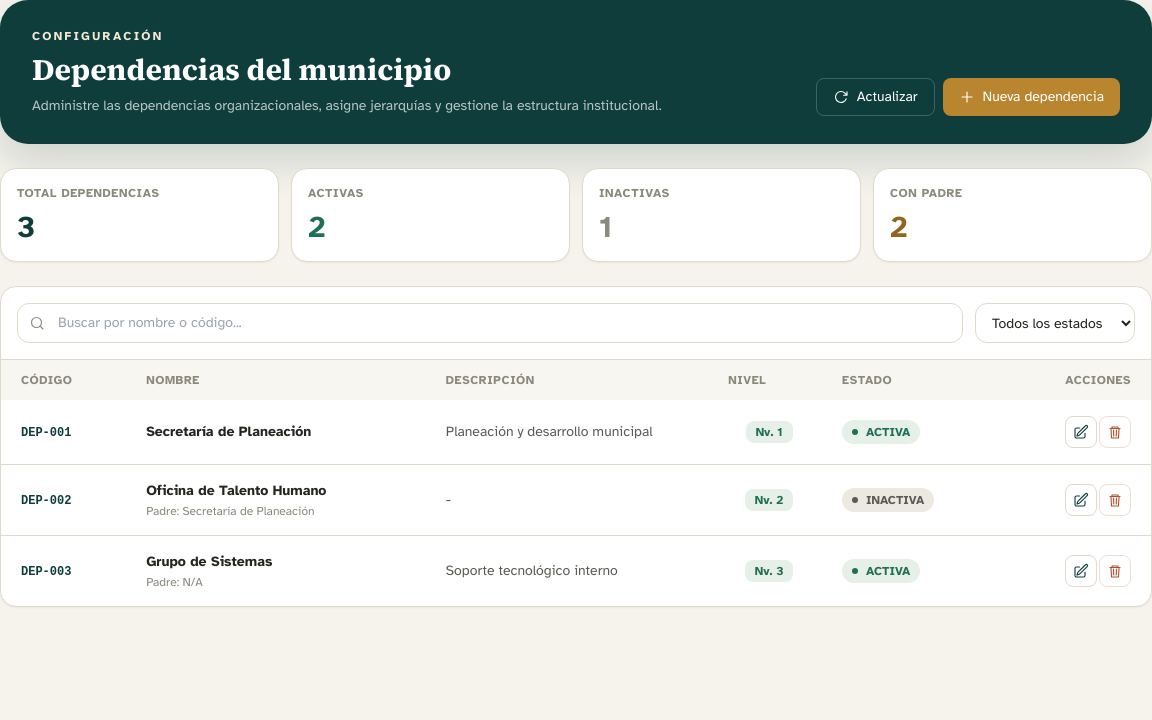
DependenciasPage › muestra el mensaje de validación cuando el error es una lista
Click the button "Nueva dependencia".
click(1031, 97)  # box [942, 78, 1120, 116]
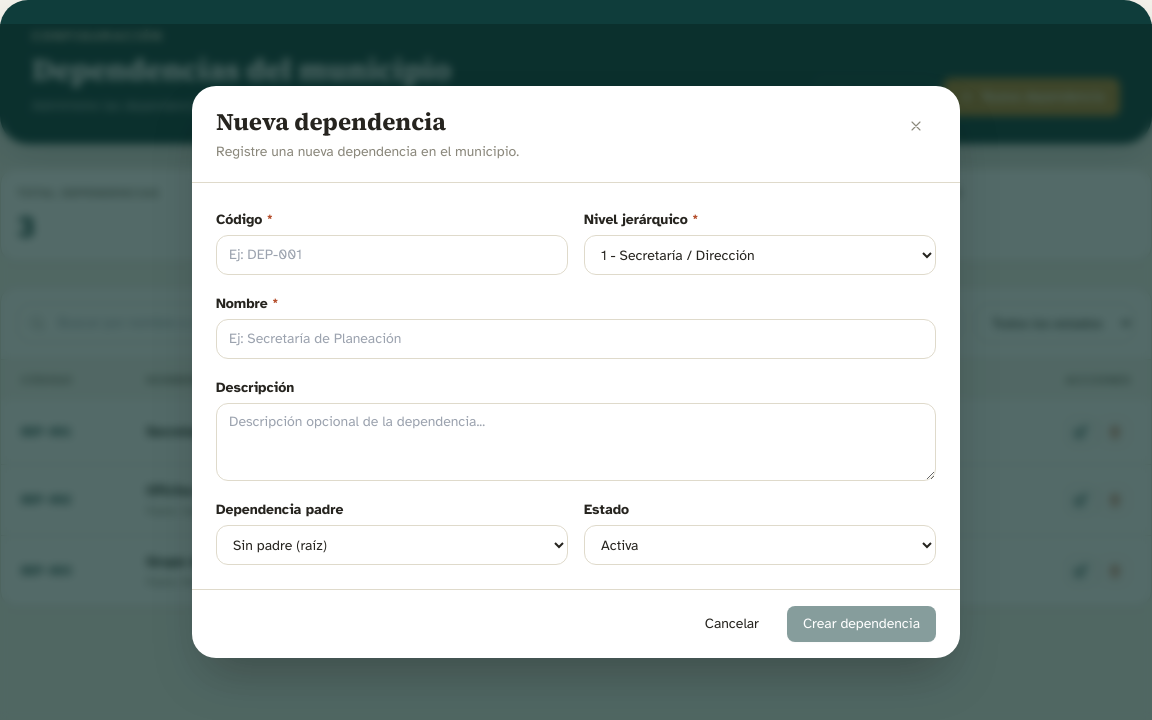
Type "DEP-099" into the field with placeholder "Ej: DEP-001".
click(392, 255); type("DEP-099")  # box [216, 235, 568, 275]
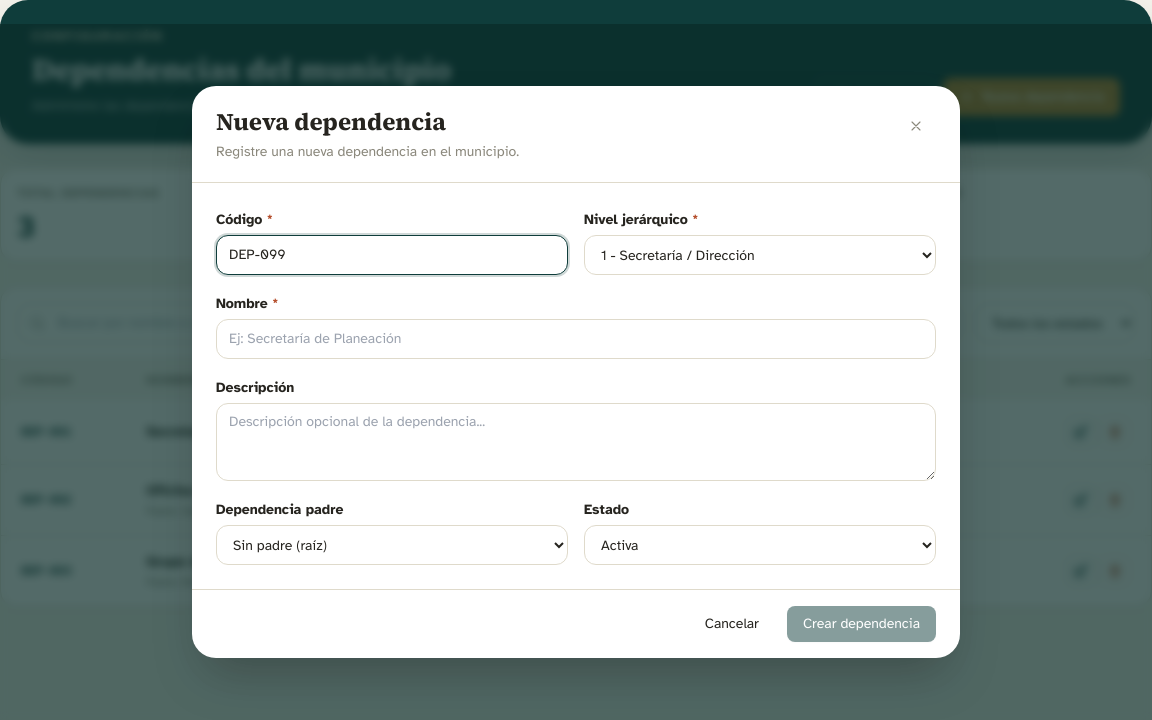
Type "Oficina de Pruebas" into the field with placeholder "Ej: Secretaría de Planeación".
click(576, 339); type("Oficina de Pruebas")  # box [216, 319, 936, 359]
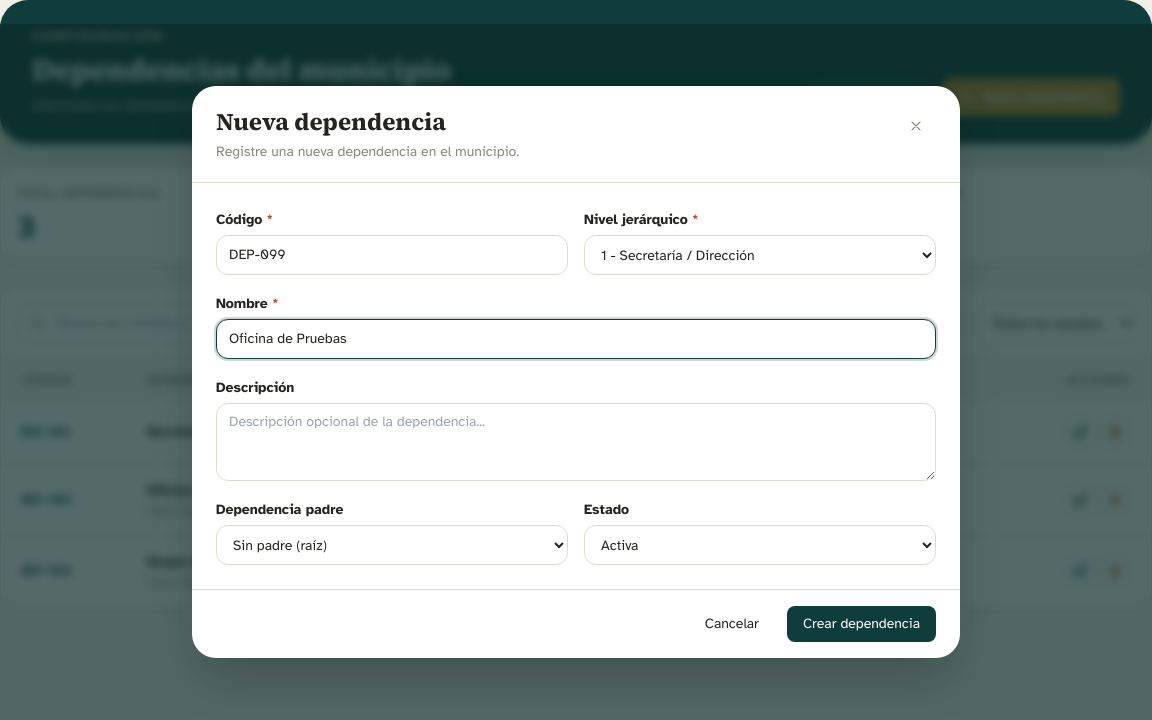
Click the button "Crear dependencia".
click(861, 624)  # box [787, 606, 936, 642]
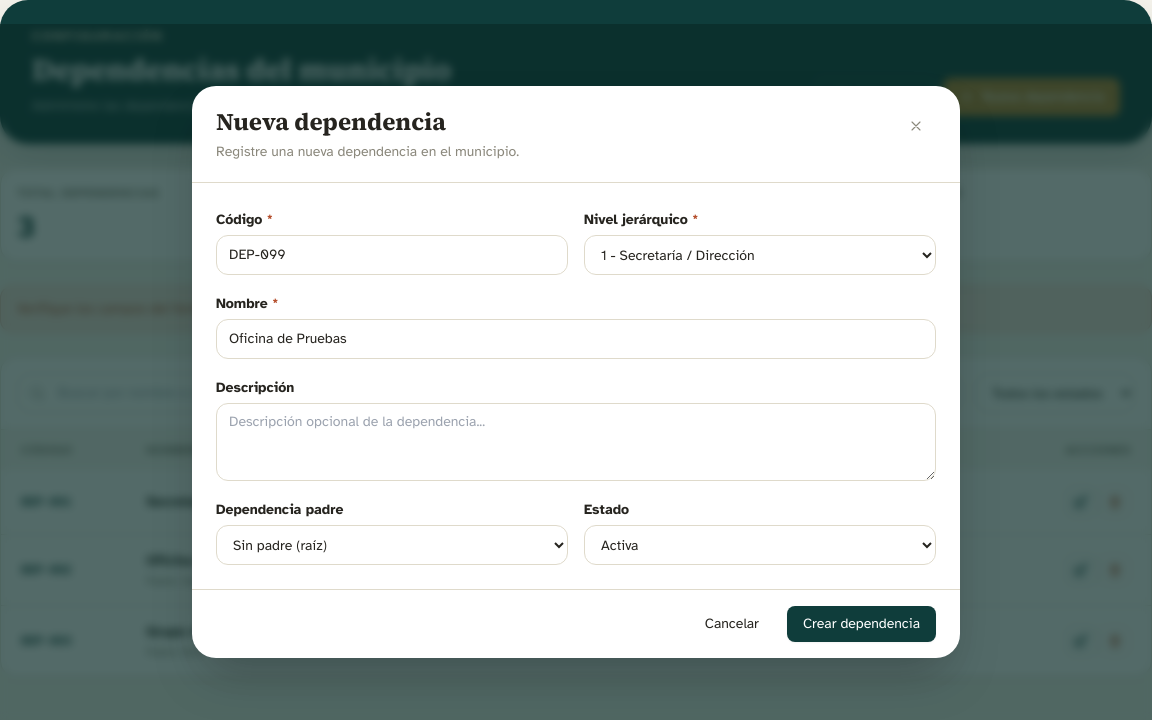
Expected: the message reads "Verifique los campos del formulario", [17, 300, 236, 317]
